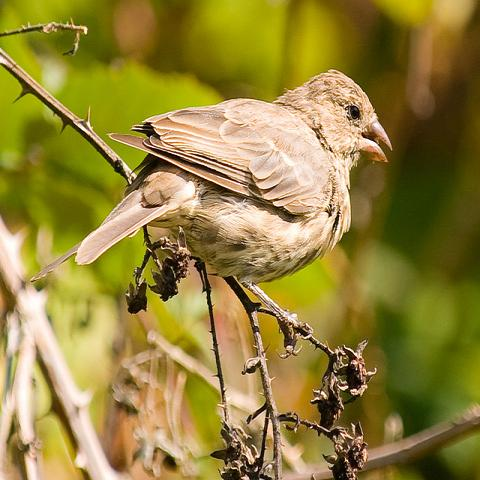bird: (29, 66, 394, 340)
